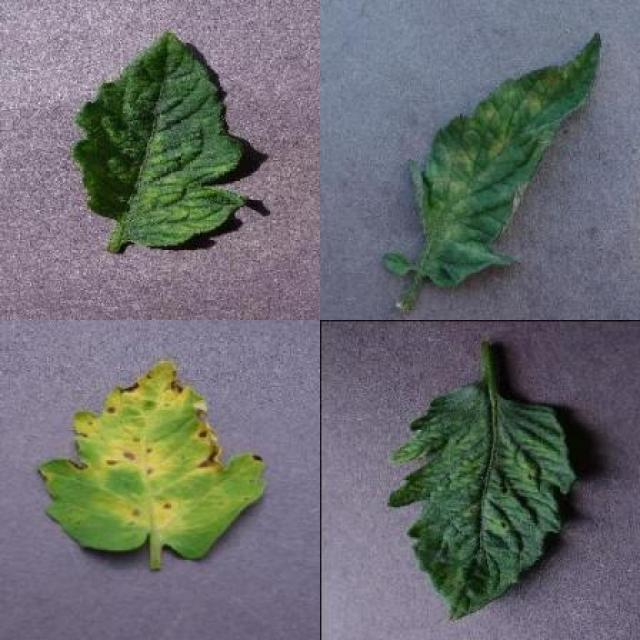Leaf Mold: (407, 28, 602, 288)
Mosaic Virus: (384, 380, 579, 623), (75, 30, 248, 247)
Septoria: (37, 358, 266, 562)
